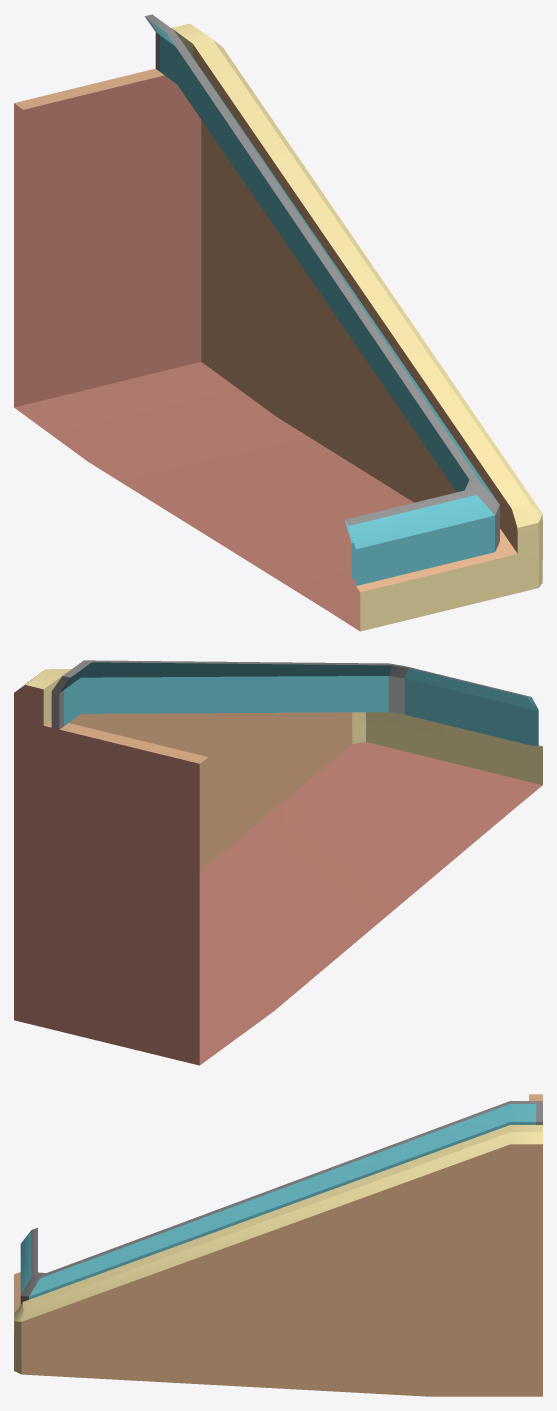
The model's file is Stalls right side.fbx.
3 renders of one model, top to bottom at view 1: azimuth 30°, elevation 25°; view 2: azimuth 150°, elevation 25°; view 3: azimuth 270°, elevation 25°, orthographic. The views are drawn at different scales.
Visible parts, largest first — view 1: Stalls right side; view 2: Stalls right side; view 3: Stalls right side.
Boxes of the visible parts, x1,y1,x2,y2 form: Stalls right side: [14, 14, 542, 631]; Stalls right side: [14, 660, 542, 1065]; Stalls right side: [14, 1094, 542, 1396].
Size of the model in its own units: 5 by 9.16 by 16.
